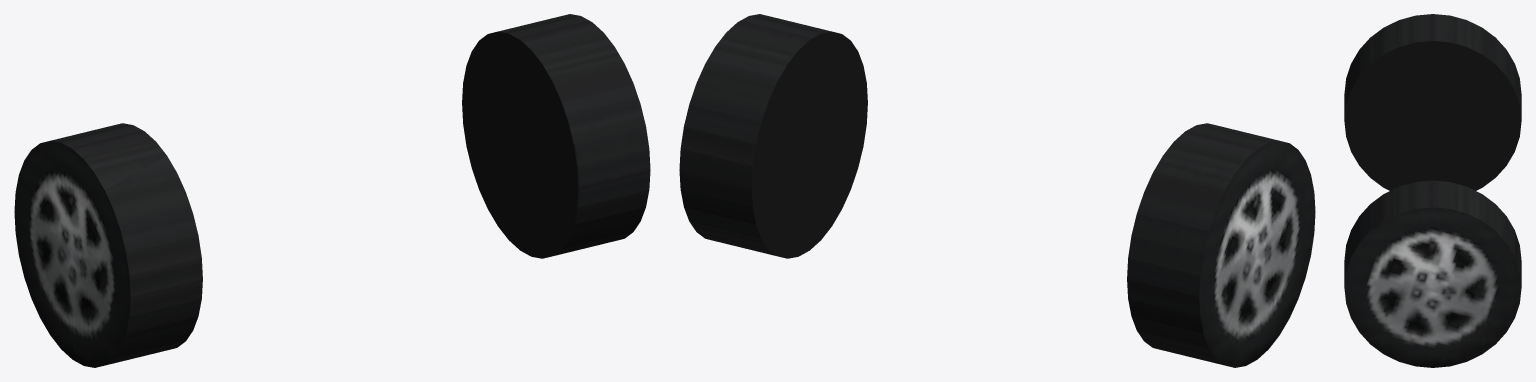
File: camry_2001_wheels_r.obj
The picture shows the model from 3 angles, left to right: view 1: azimuth 30°, elevation 25°; view 2: azimuth 150°, elevation 25°; view 3: azimuth 270°, elevation 25°; orthographic projection. The views are drawn at different scales.
Parts seen in each view (by area): view 1: camry_2001_wheels_r; view 2: camry_2001_wheels_r; view 3: camry_2001_wheels_r.
Boxes of the visible parts, box(x1,y1,x2,y2) form: camry_2001_wheels_r: box(14, 14, 650, 367); camry_2001_wheels_r: box(679, 14, 1315, 367); camry_2001_wheels_r: box(1344, 14, 1521, 367).
Bounding box in the file's own units: 1.74 × 0.6731 × 0.6731.
Materials: 1 (1 with a texture image).
